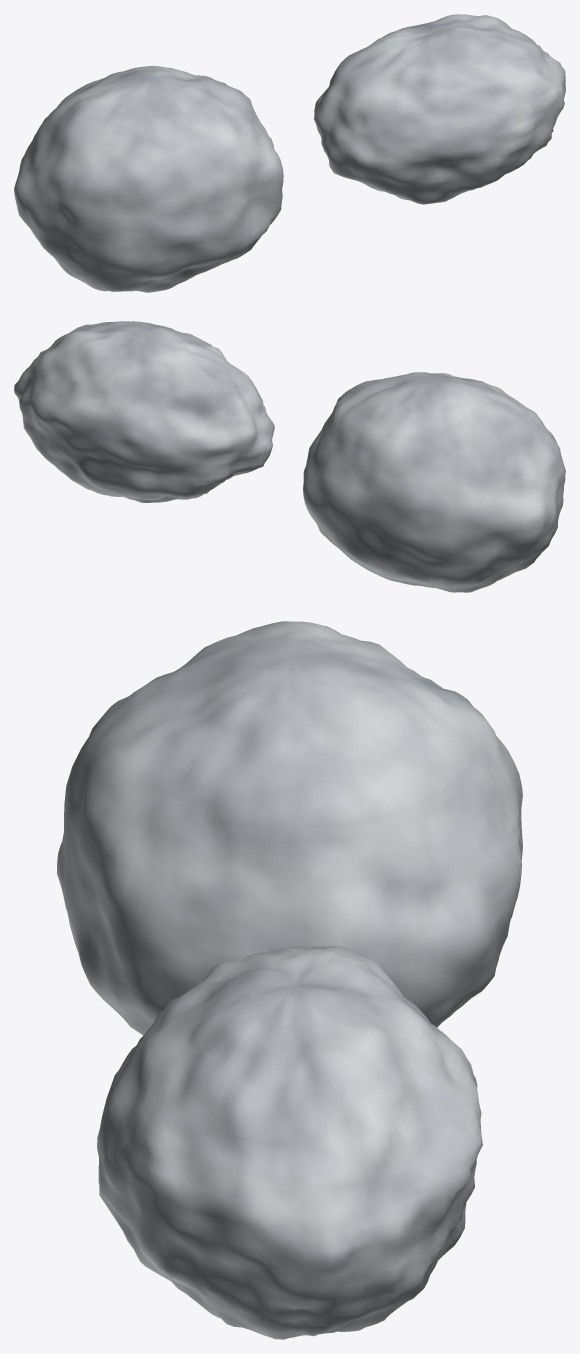
The model's file is moons.glb.
3 views of the same model, one above another, from view 1: azimuth 30°, elevation 25°; view 2: azimuth 150°, elevation 25°; view 3: azimuth 270°, elevation 25° (orthographic). The views are drawn at different scales.
Visible parts, largest first — view 1: moon0, moon1; view 2: moon0, moon1; view 3: moon0, moon1.
Boxes of the visible parts, x1,y1,x2,y2 form: moon0: [14, 65, 283, 292]; moon1: [314, 14, 565, 204]; moon0: [303, 372, 565, 592]; moon1: [14, 321, 274, 502]; moon0: [57, 621, 522, 1035]; moon1: [97, 946, 482, 1339].
Size of the model in its own units: 4.37 by 1.58 by 1.66.
1 material, 1 textured.
